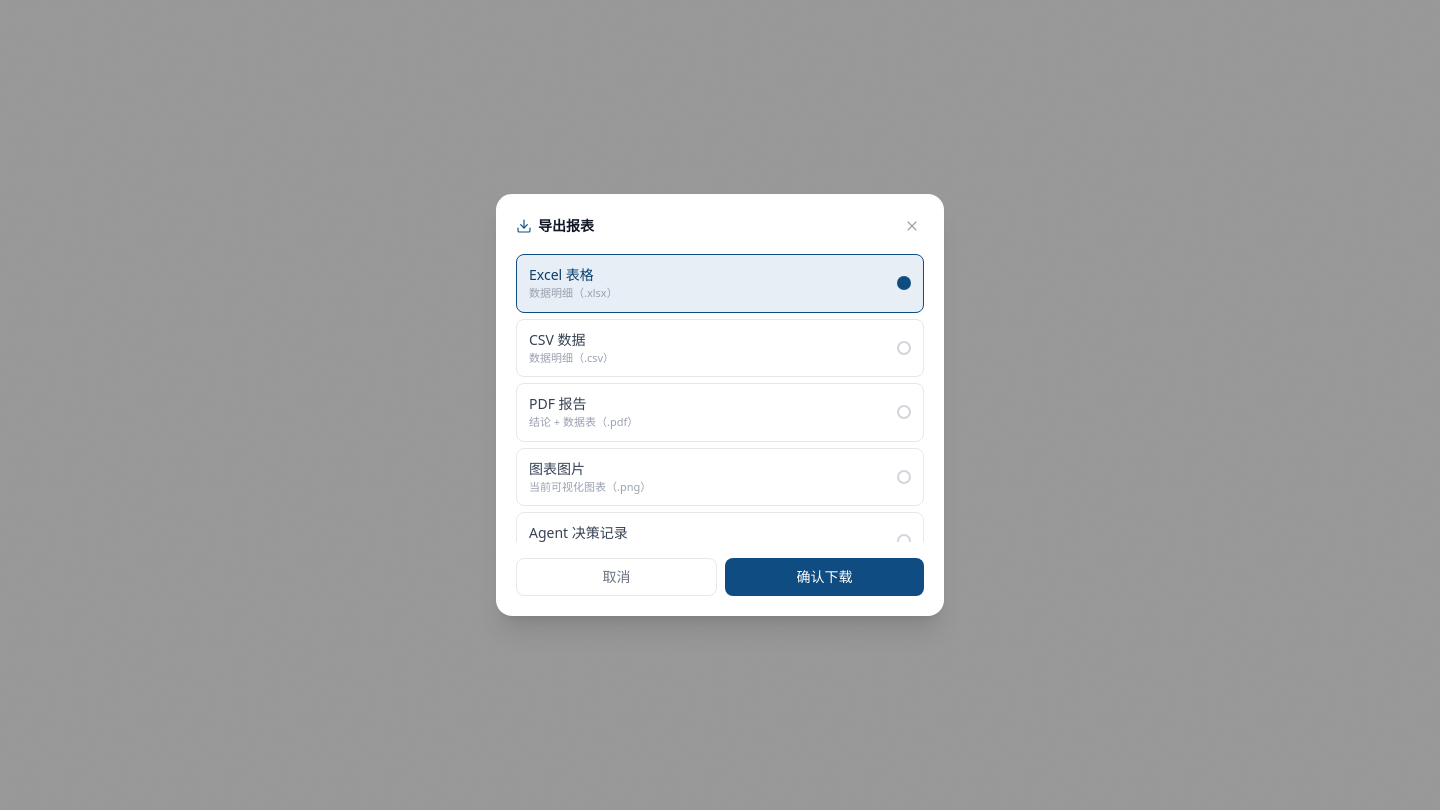
Test: ExportDialog 错误呈现（阶段 53 · A2） › 错误横幅在重试前一直可见，不依赖 window.alert
Click the button "确认下载". click: (824, 577)
box: [725,558,924,596]
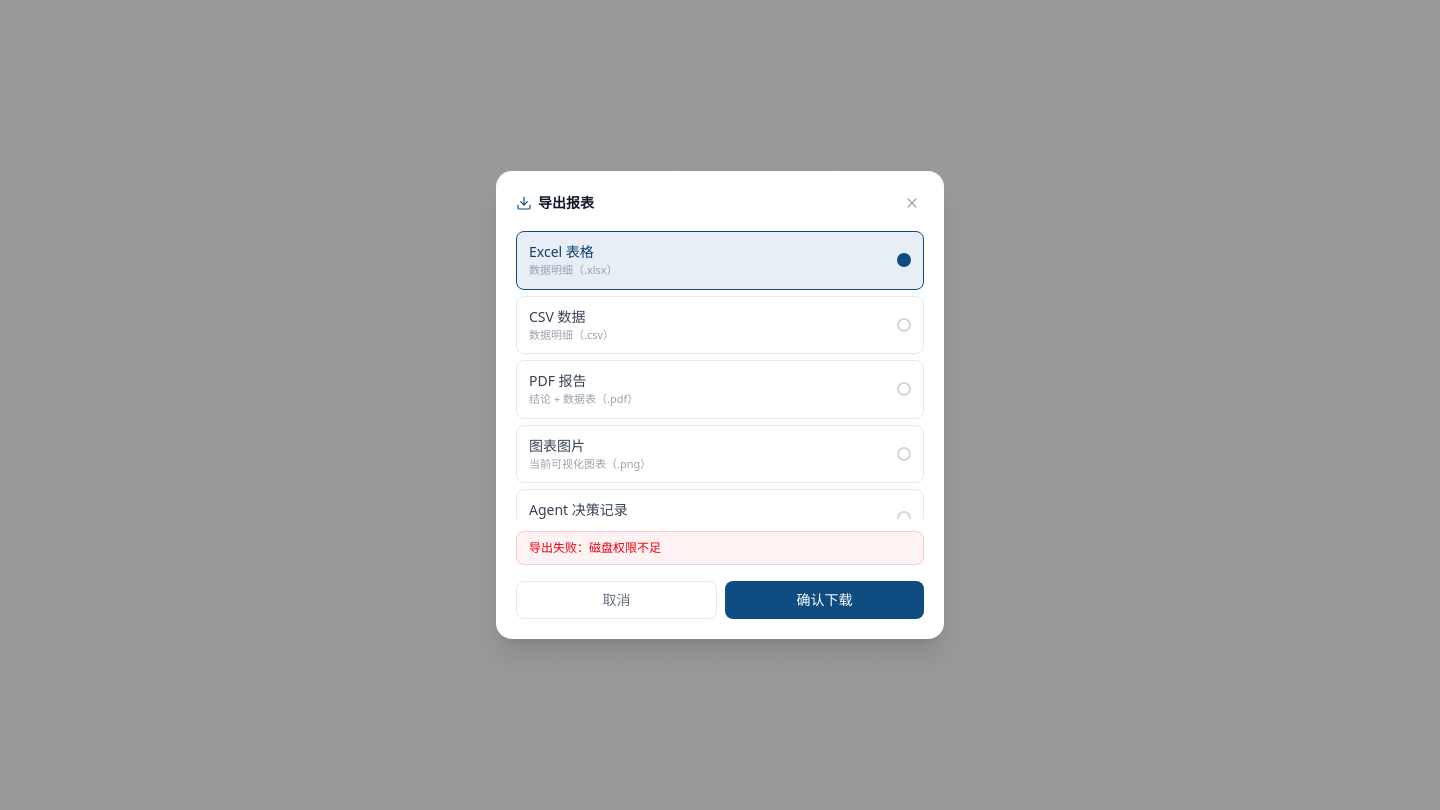
expect the text "导出失败：磁盘权限不足" is shown: met, box [516,531,924,565]
